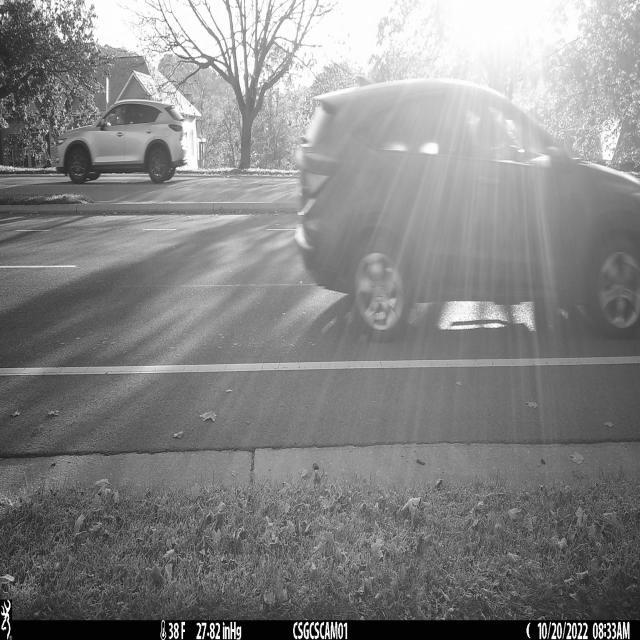SUV: (295, 79, 640, 344)
